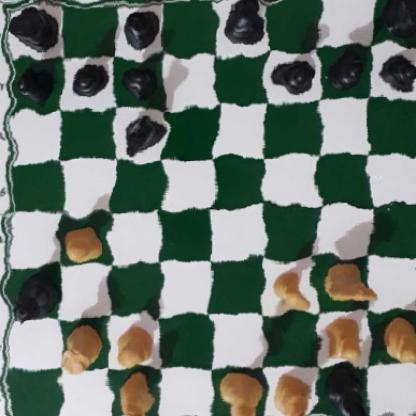black-bishop: (323, 371, 371, 416), (118, 5, 161, 47)
black-king: (220, 0, 272, 48)
black-knight: (123, 111, 162, 158)
black-pawn: (276, 51, 315, 95), (379, 47, 416, 93), (17, 62, 54, 102), (70, 60, 105, 102), (119, 61, 156, 100), (329, 47, 365, 87)
black-queen: (10, 271, 57, 329)
black-rook: (4, 3, 61, 53), (382, 0, 416, 37)
white-bishop: (268, 372, 313, 416), (115, 374, 158, 416)
white-king: (213, 373, 261, 416)
white-knight: (320, 255, 381, 310)
white-pawn: (267, 267, 313, 314), (320, 314, 362, 364), (114, 324, 155, 369), (58, 226, 104, 263), (378, 323, 416, 363)
white-rook: (57, 321, 98, 373)
